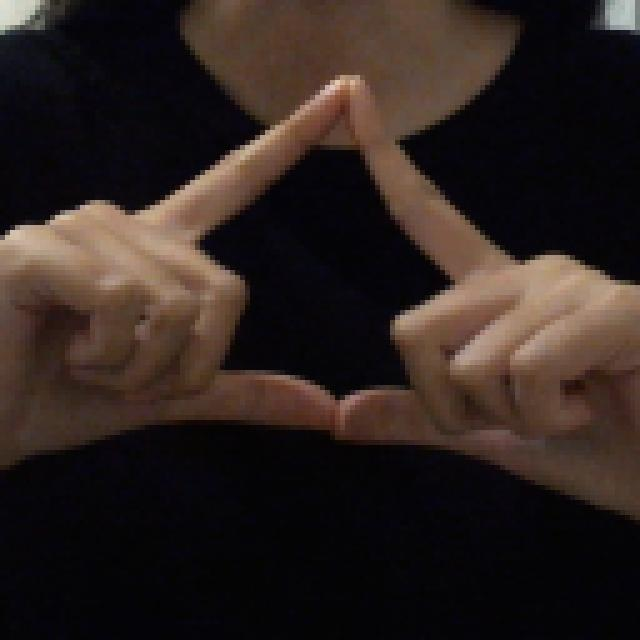A: (0, 76, 640, 516)
